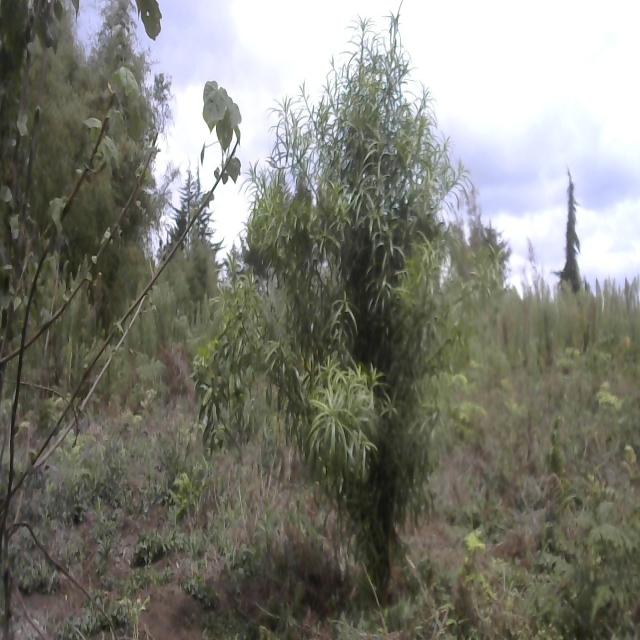Podocarpus falcatus: (244, 3, 522, 620)
cedrus: (165, 142, 216, 284), (555, 156, 588, 300)
other: (0, 2, 165, 526)
